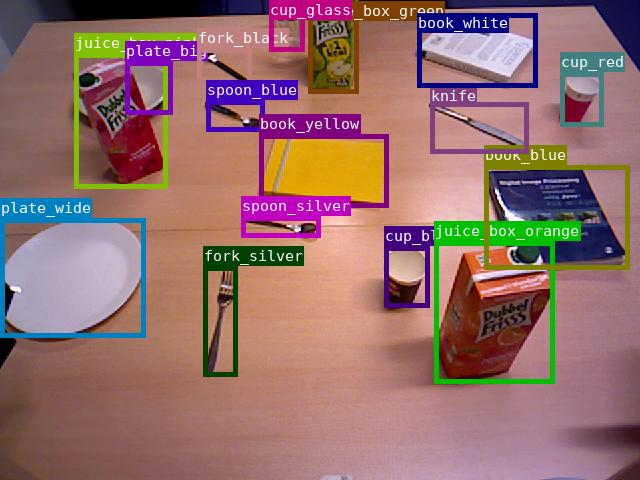book_blue: (484, 165, 629, 269)
book_white: (417, 13, 537, 87)
book_yellow: (259, 134, 388, 207)
cup_black: (384, 246, 429, 307)
cup_glass: (269, 0, 304, 51)
cup_red: (560, 72, 603, 126)
fork_black: (197, 48, 251, 86)
fork_silver: (203, 266, 237, 376)
juice_box_green: (308, 1, 358, 93)
juice_box_orange: (434, 241, 554, 383)
juice_box_pink: (74, 53, 167, 188)
knife: (430, 102, 528, 153)
plate_big: (125, 61, 172, 114)
plate_wide: (0, 218, 145, 337)
spoon_blue: (206, 100, 264, 131)
spoon_silver: (241, 216, 320, 237)
